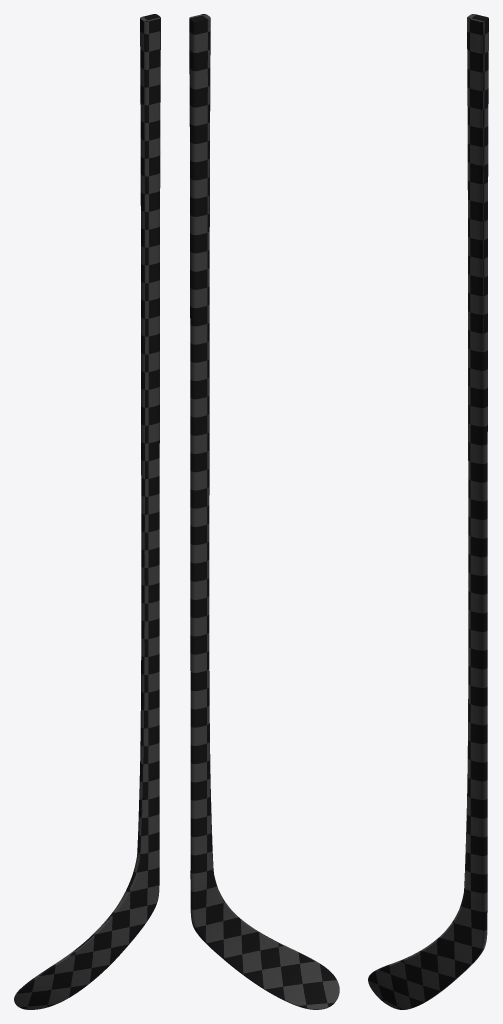
Rendered from P99-SBO.glb.
The picture shows the model from 3 angles, left to right: view 1: azimuth 30°, elevation 25°; view 2: azimuth 210°, elevation 25°; view 3: azimuth 330°, elevation 25°; orthographic projection. The views are drawn at different scales.
Parts seen in each view (by area): view 1: geometry_0; view 2: geometry_0; view 3: geometry_0.
Part boxes in pixels (x1=…): geometry_0: x1=14, y1=14, x2=160, y2=1009; geometry_0: x1=189, y1=14, x2=339, y2=1009; geometry_0: x1=368, y1=14, x2=488, y2=1009.
Bounding box in the file's own units: 226 × 1650 × 67.61.
1 material, 1 textured.
